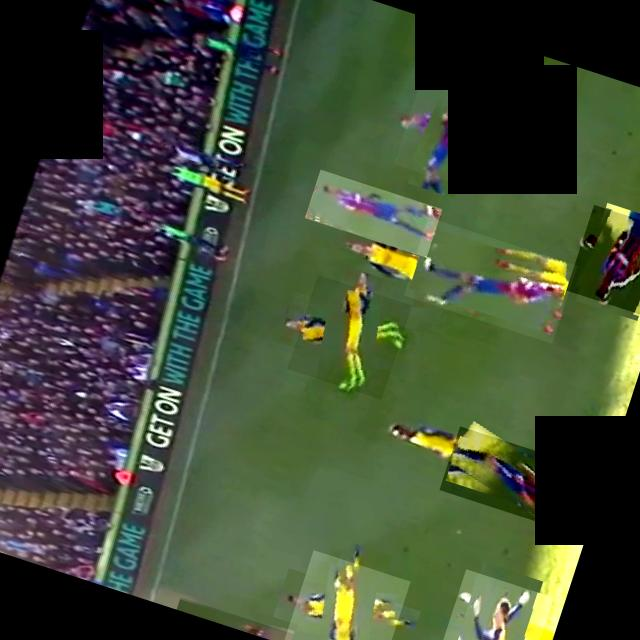soccer-player: (402, 218, 576, 344), (438, 426, 606, 538), (286, 274, 411, 400), (304, 170, 442, 258), (392, 81, 502, 191), (282, 550, 410, 640), (565, 205, 640, 318), (436, 569, 552, 640), (175, 597, 292, 640)
